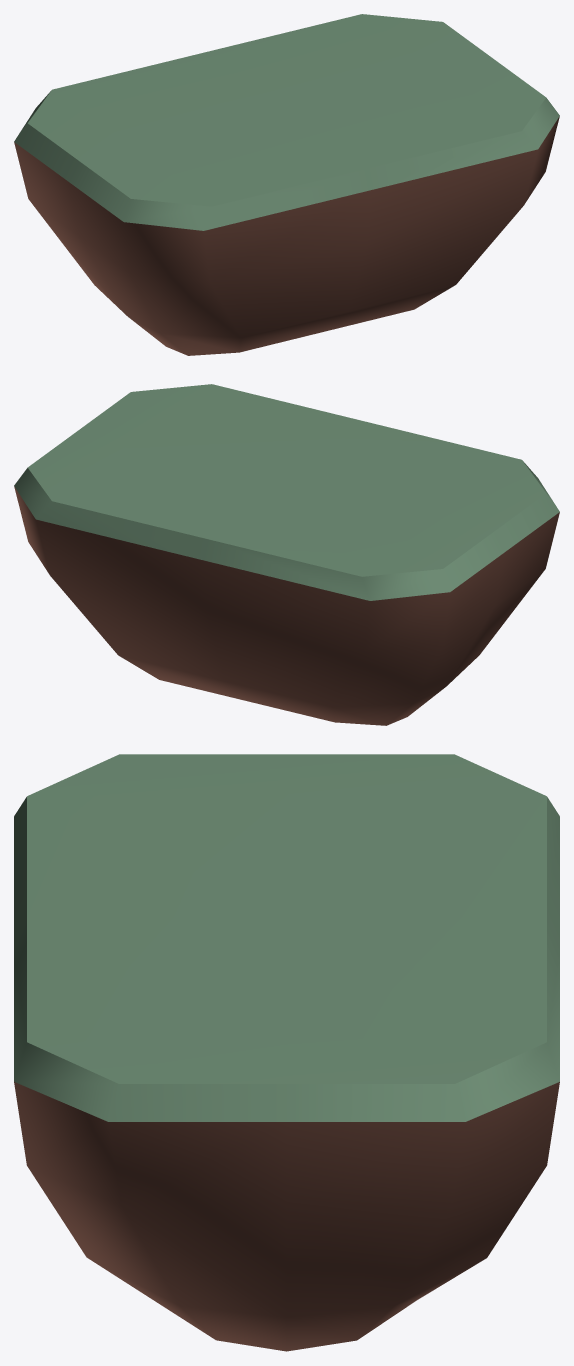
The model's file is FlotantPlatform_lp.fbx.
The picture shows the model from 3 angles, top to bottom: view 1: azimuth 30°, elevation 25°; view 2: azimuth 150°, elevation 25°; view 3: azimuth 270°, elevation 25°; orthographic projection. The views are drawn at different scales.
Parts seen in each view (by area): view 1: Piso_ignore, Wall_lp, Bevel_ignore; view 2: Piso_ignore, Wall_lp, Bevel_ignore; view 3: Piso_ignore, Wall_lp, Bevel_ignore.
Part boxes in pixels (x1,y1,x2,y2): Piso_ignore: (28, 14, 545, 206); Wall_lp: (14, 116, 559, 355); Bevel_ignore: (14, 91, 559, 230); Piso_ignore: (27, 384, 546, 576); Wall_lp: (14, 486, 559, 725); Bevel_ignore: (14, 461, 559, 600); Piso_ignore: (27, 754, 546, 1083); Wall_lp: (14, 1082, 559, 1351); Bevel_ignore: (14, 797, 559, 1121).
Size of the model in its own units: 5.96 by 2.81 by 3.97.
